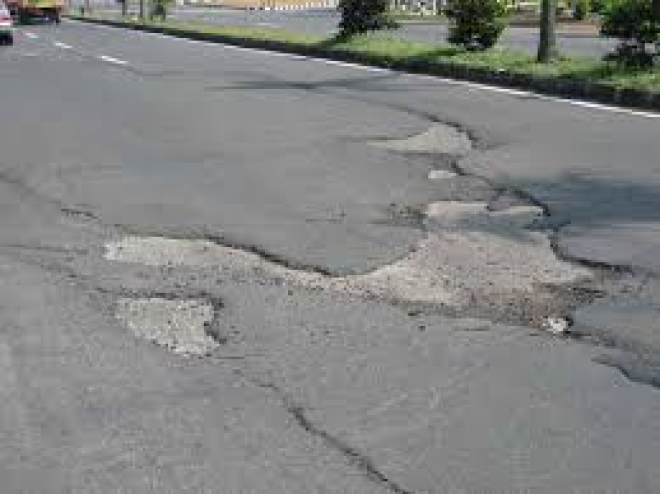Berlubang: (86, 217, 646, 358), (344, 91, 491, 170), (403, 165, 558, 230), (55, 201, 111, 223)
